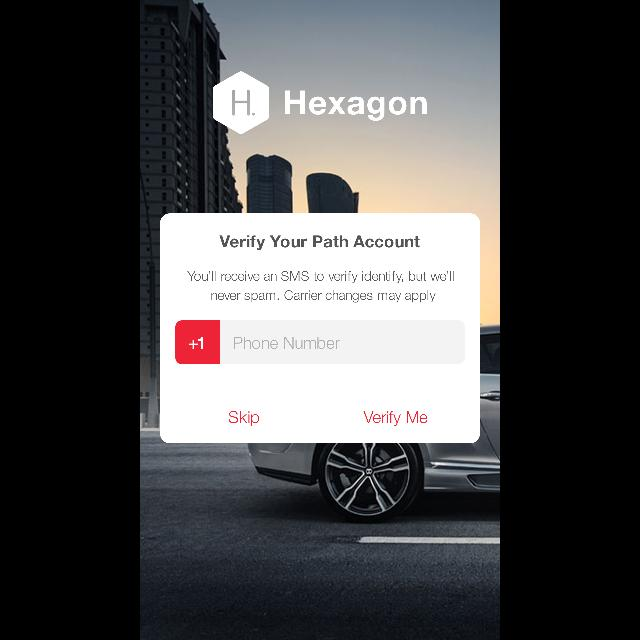backgroundimage: (140, 1, 500, 640)
image: (213, 72, 269, 134)
input: (176, 320, 464, 364)
panel: (160, 213, 480, 443)
text: (186, 271, 454, 303), (285, 90, 427, 122), (220, 235, 420, 251), (234, 337, 340, 349), (188, 337, 204, 349)
textbutton: (320, 390, 480, 444), (160, 390, 320, 444)
